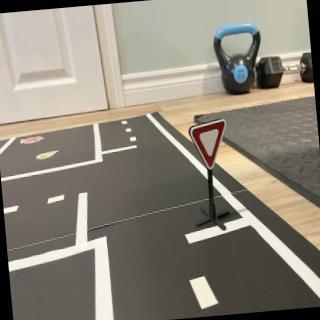sign_yield: (189, 120, 231, 172)
